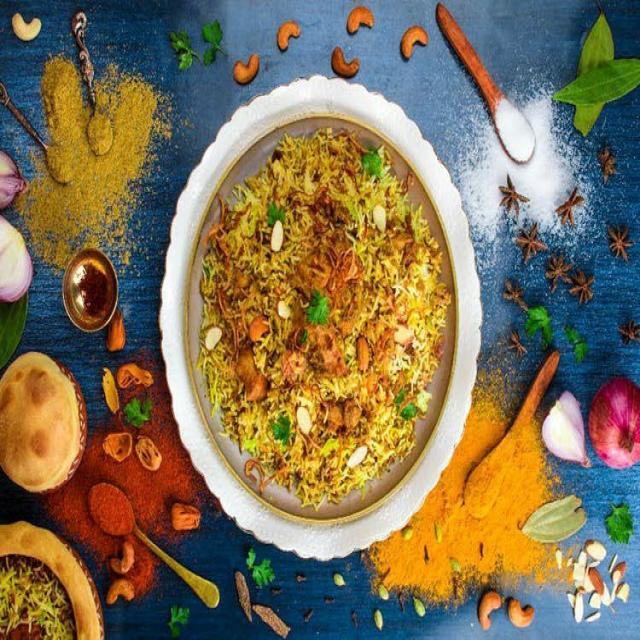Biryani: (193, 124, 455, 506)
